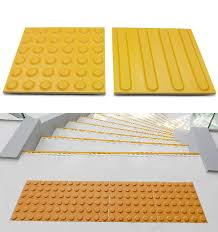guide_blocks: (17, 180, 204, 221)
